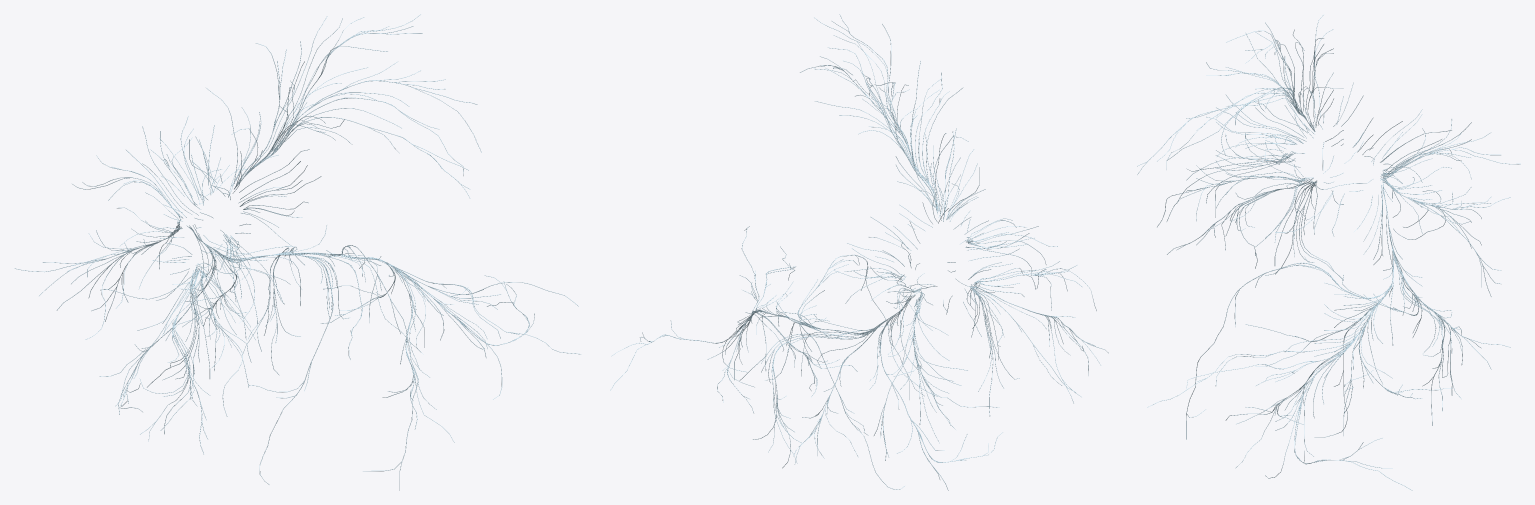
The picture shows the model from 3 angles, left to right: view 1: azimuth 30°, elevation 25°; view 2: azimuth 150°, elevation 25°; view 3: azimuth 270°, elevation 25°; orthographic projection. The views are drawn at different scales.
Visible parts, largest first — view 1: 120570964-0000; view 2: 120570964-0000; view 3: 120570964-0000.
Boxes of the visible parts, x1,y1,x2,y2 form: 120570964-0000: [14, 14, 581, 490]; 120570964-0000: [610, 14, 1108, 490]; 120570964-0000: [1137, 14, 1520, 490].
Bounding box in the file's own units: 50.04 × 49.05 × 39.02.
